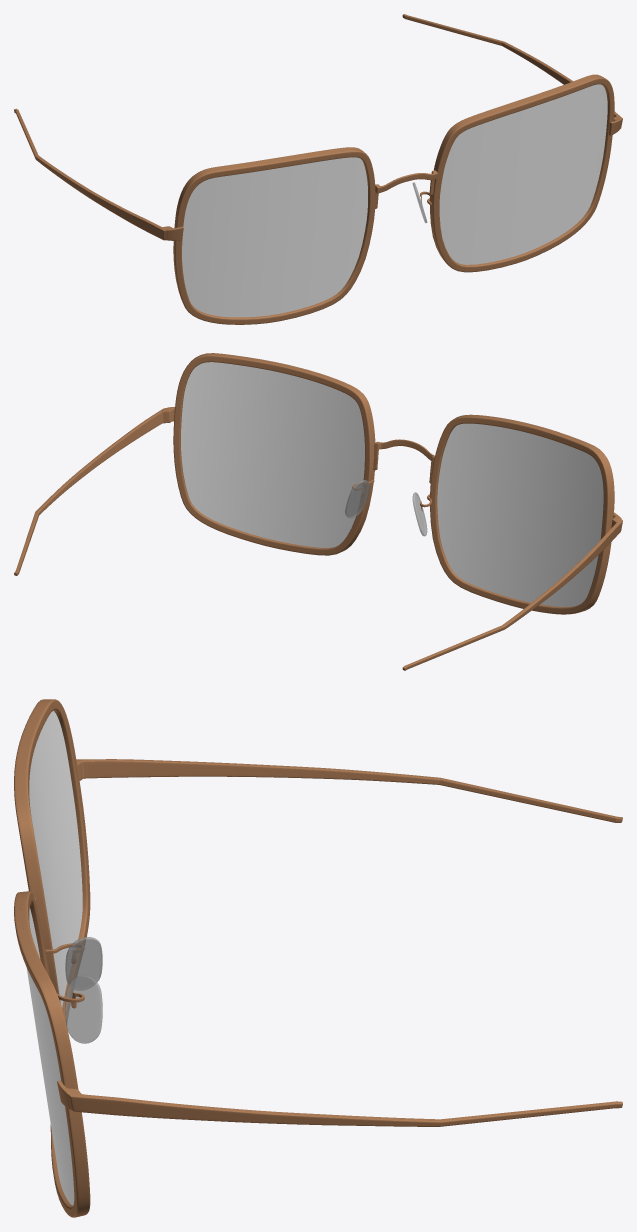
Rendered from Square_app.gltf.
3 renders of one model, top to bottom at view 1: azimuth 30°, elevation 25°; view 2: azimuth 150°, elevation 25°; view 3: azimuth 270°, elevation 25°, orthographic. The views are drawn at different scales.
Visible parts, largest first — view 1: Lentes, Line002; view 2: Lentes, Line002, Ponte; view 3: Line002, Lentes, Ponte.
Part boxes in pixels (bbox=[...]): Lentes: bbox=[182, 84, 607, 317]; Line002: bbox=[14, 14, 622, 324]; Lentes: bbox=[181, 362, 603, 606]; Line002: bbox=[14, 353, 622, 670]; Ponte: bbox=[345, 480, 427, 536]; Line002: bbox=[14, 699, 622, 1217]; Lentes: bbox=[26, 711, 82, 1205]; Ponte: bbox=[65, 937, 102, 1043].
Bounding box in the file's own units: 0.1603 × 0.0555 × 0.1181.
Materials: 3 (3 with a texture image).
